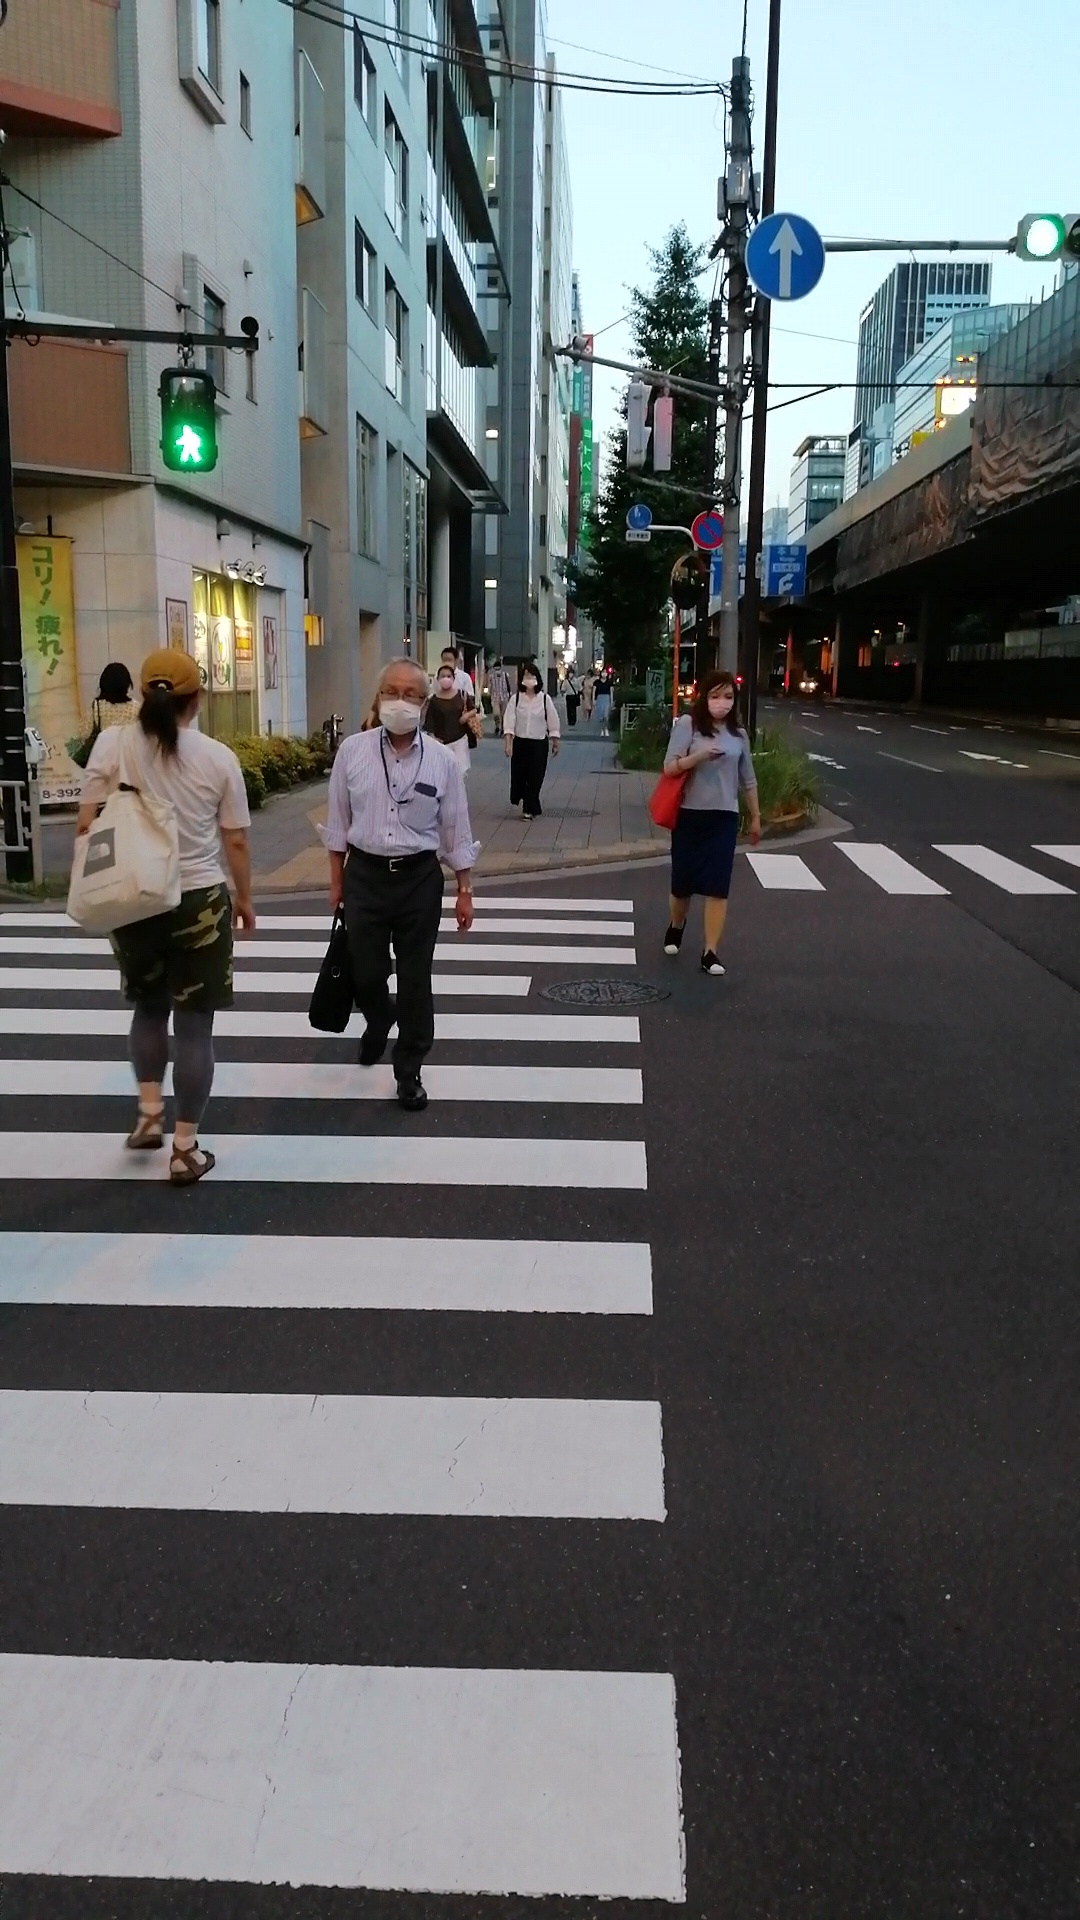green: (158, 365, 218, 473)
